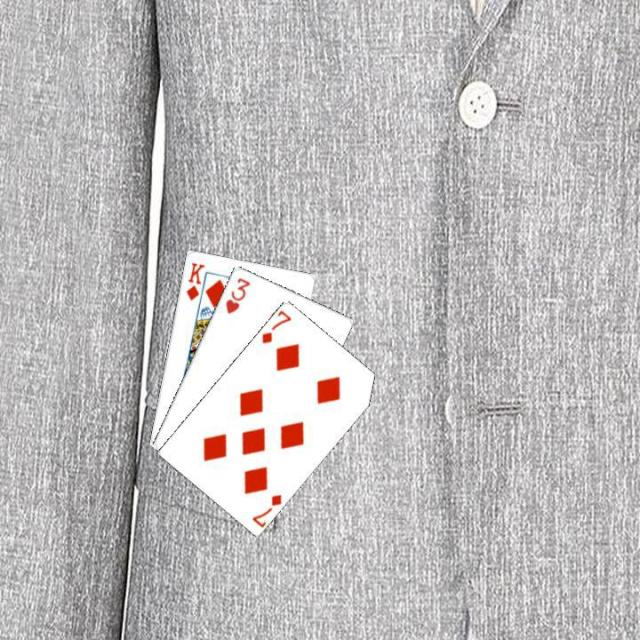3H: (222, 273, 252, 315)
7D: (248, 490, 284, 528), (258, 307, 293, 345)
KD: (182, 259, 206, 302)
